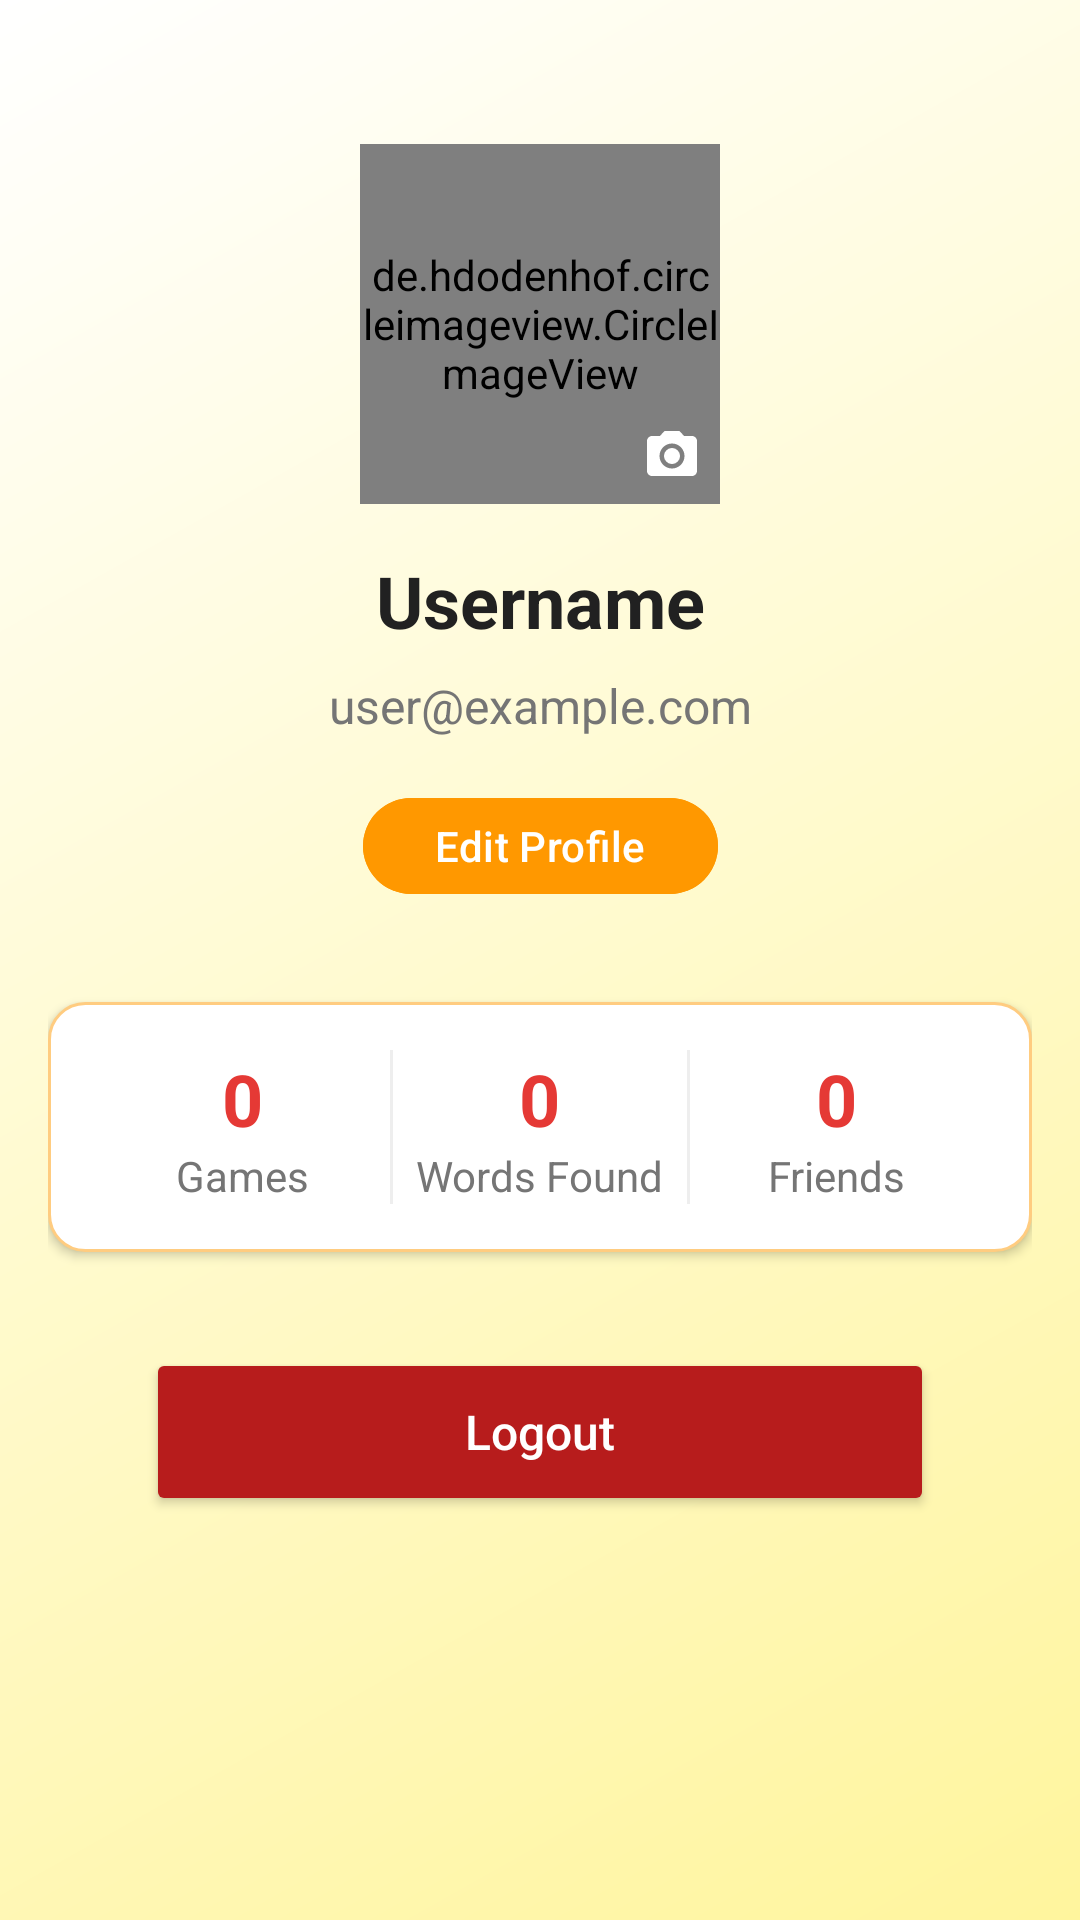

Icon click points for this 1080 × 1920 phone screenshot, format point (x, y):
camera: point (672, 453)
